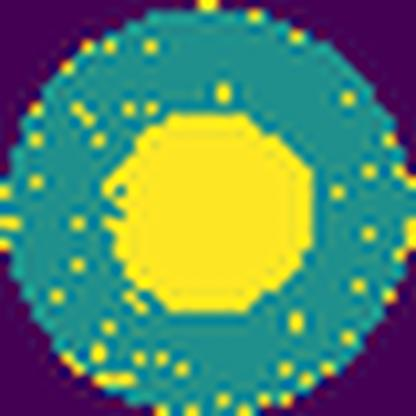Center: (104, 113, 316, 316)
